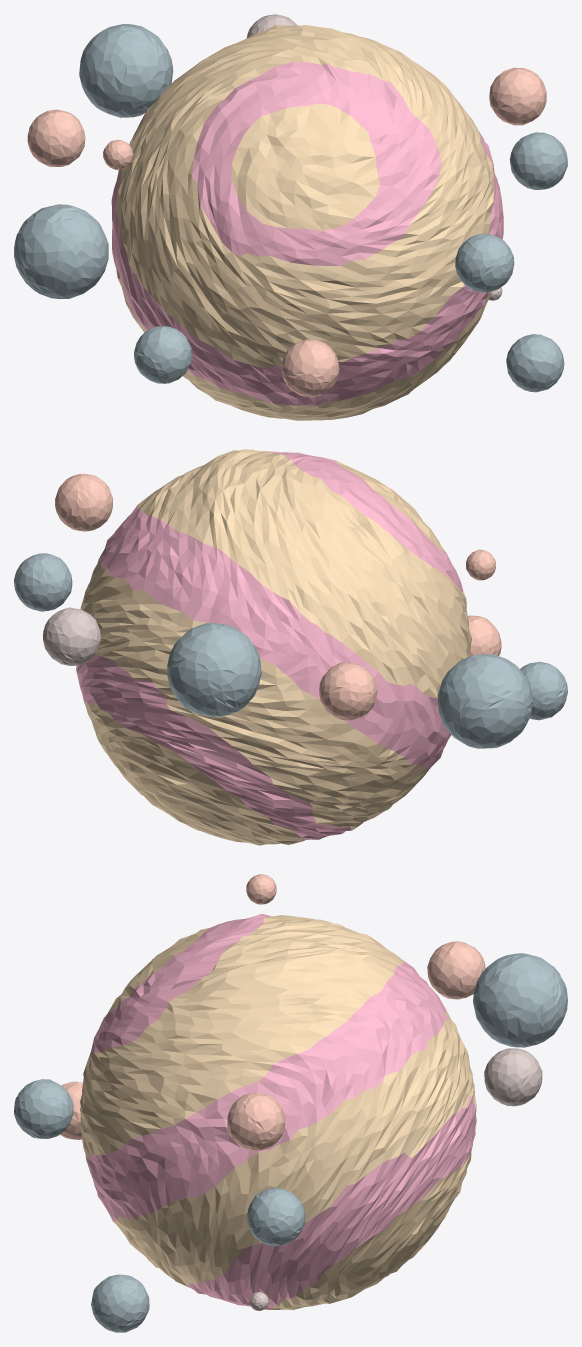
File: PlanetLotsOfMoons-transformed.glb
3 renders of one model, top to bottom at view 1: azimuth 30°, elevation 25°; view 2: azimuth 150°, elevation 25°; view 3: azimuth 270°, elevation 25°, orthographic.
Parts seen in each view (by area): view 1: Planet_1; view 2: Planet_1; view 3: Planet_1.
Part boxes in pixels (x1=…): Planet_1: x1=14, y1=14, x2=567, y2=420; Planet_1: x1=14, y1=449, x2=567, y2=845; Planet_1: x1=14, y1=874, x2=567, y2=1332.
Size of the model in its own units: 30.97 by 20.01 by 28.12.
Materials: 1 (1 with a texture image).
